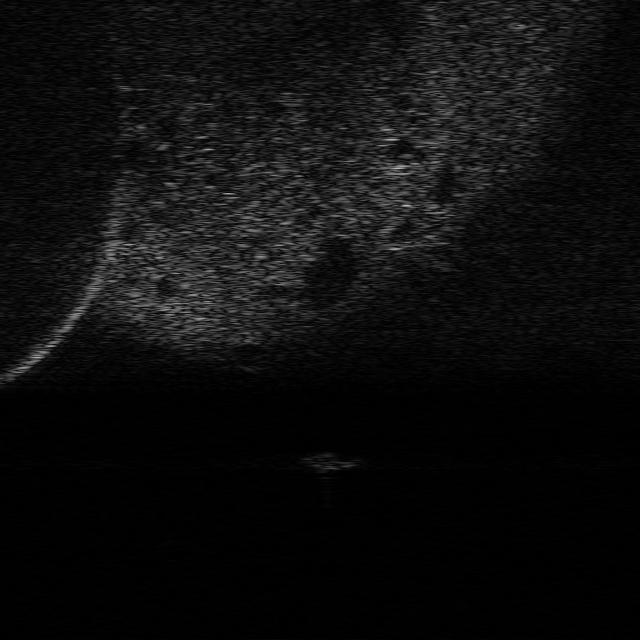cube: (301, 446, 361, 475)
